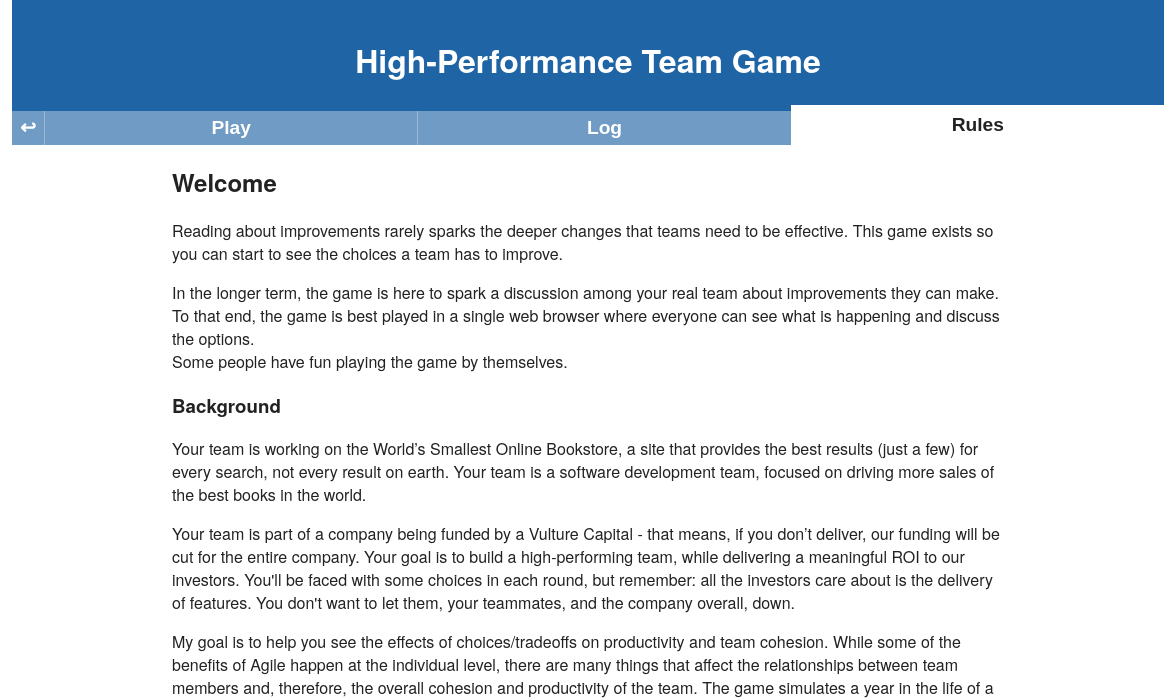
it: App UI › displays current round
What coordinates should you click on to do the following:
click the button "Play"
I would click on:
 (231, 128)
Its box is [44, 111, 417, 145].
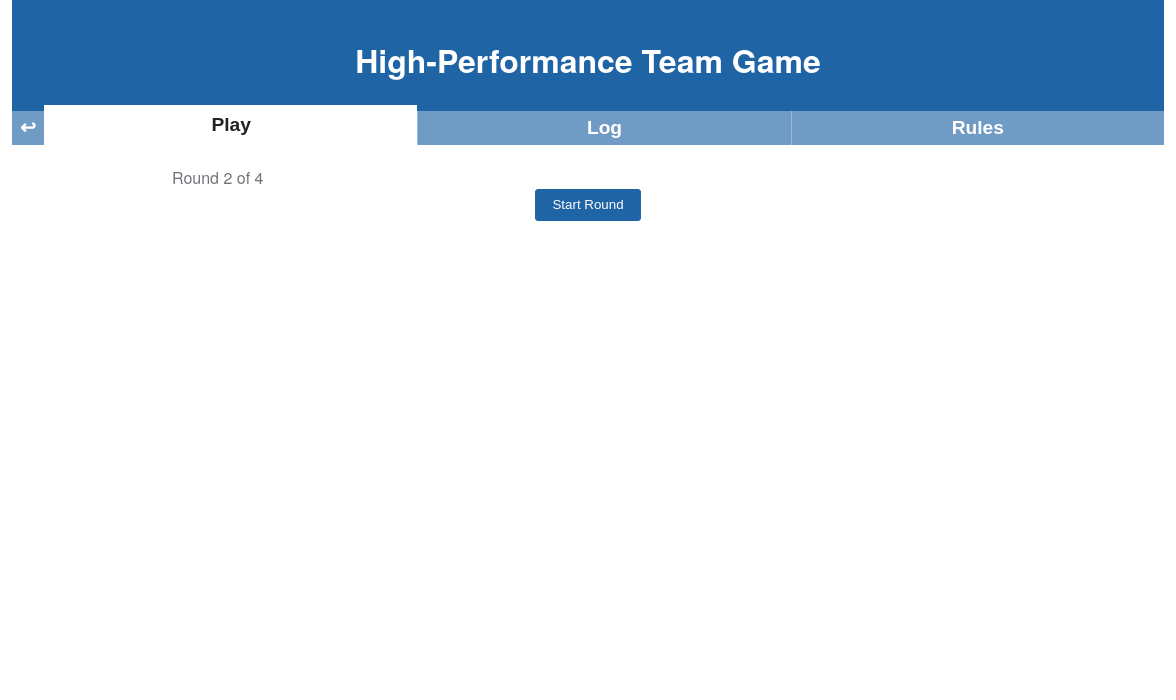
Expected: the heading "Round 2 of 4" is shown, [172, 166, 264, 189]
